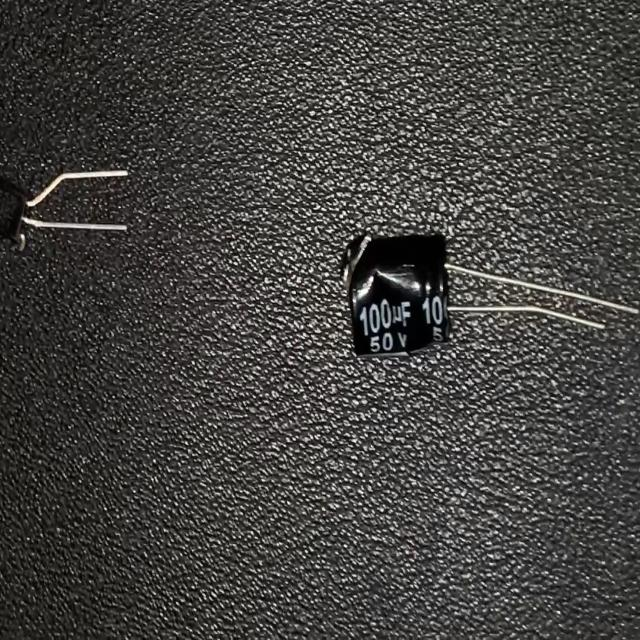capacitor: (338, 228, 640, 364)
cracked: (350, 265, 421, 314), (340, 233, 374, 300)
missing-leg: (0, 165, 130, 258)
